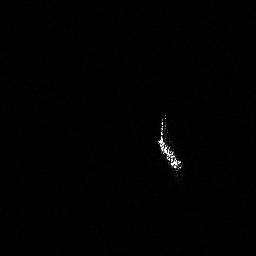ship: (153, 112, 187, 176)
